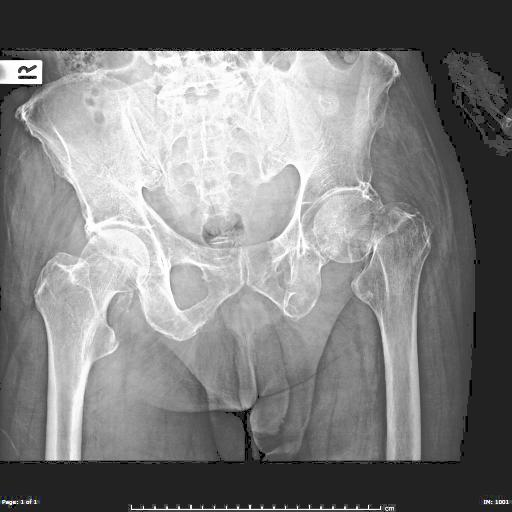neck: (351, 202, 434, 372), (314, 194, 380, 263)
normal: (34, 228, 150, 417)
